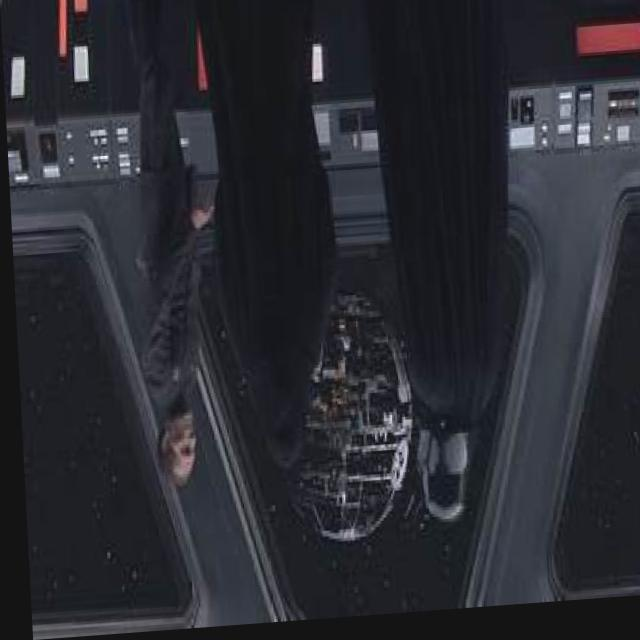deathStar: (263, 287, 416, 551)
